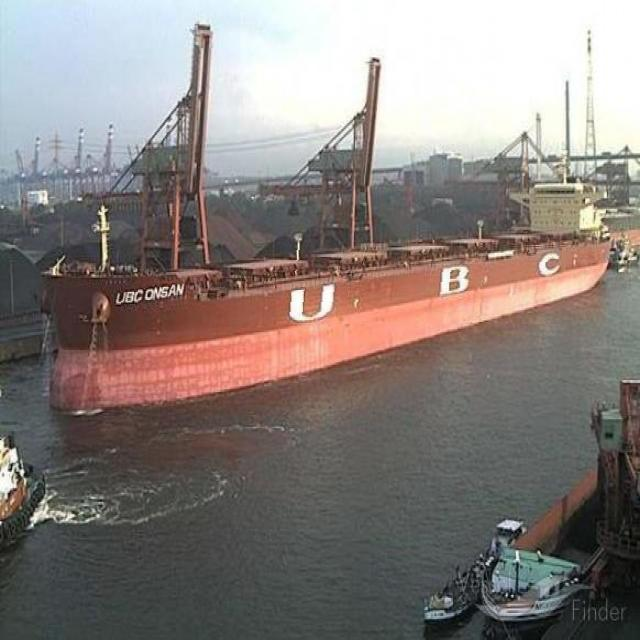OCR: (276, 244, 566, 324), (112, 283, 194, 309)
